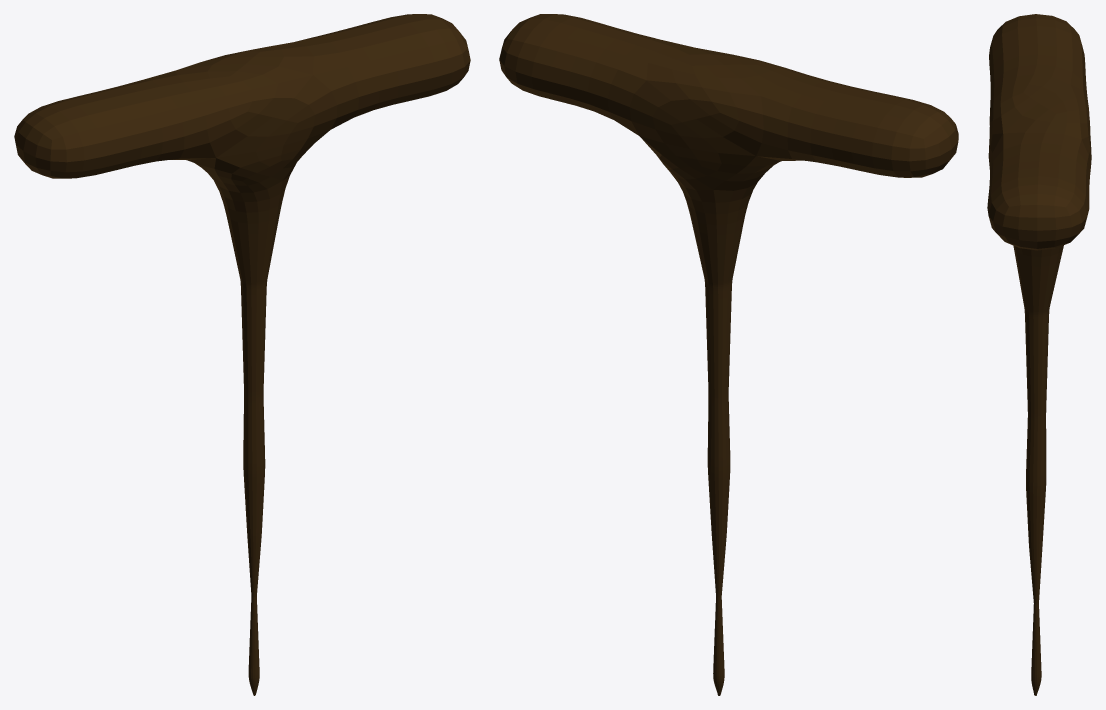
Rendered from TreeFloor.fbx.
3 views of the same model, side by side, from view 1: azimuth 30°, elevation 25°; view 2: azimuth 150°, elevation 25°; view 3: azimuth 270°, elevation 25° (orthographic). The views are drawn at different scales.
Visible parts, largest first — view 1: Vert.001; view 2: Vert.001; view 3: Vert.001.
Boxes of the visible parts, x1,y1,x2,y2 form: Vert.001: (14,14,470,695); Vert.001: (499,14,958,695); Vert.001: (987,14,1091,695).
Size of the model in its own units: 156 by 214 by 34.27.
